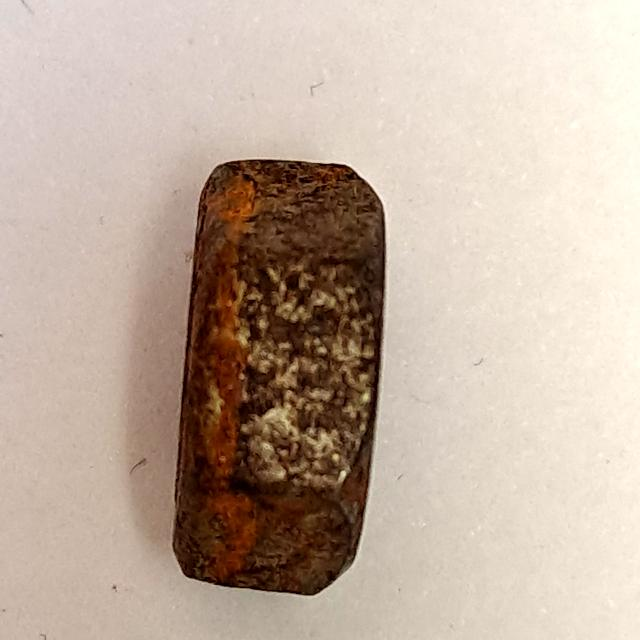Side_Rust: (147, 150, 401, 611)
